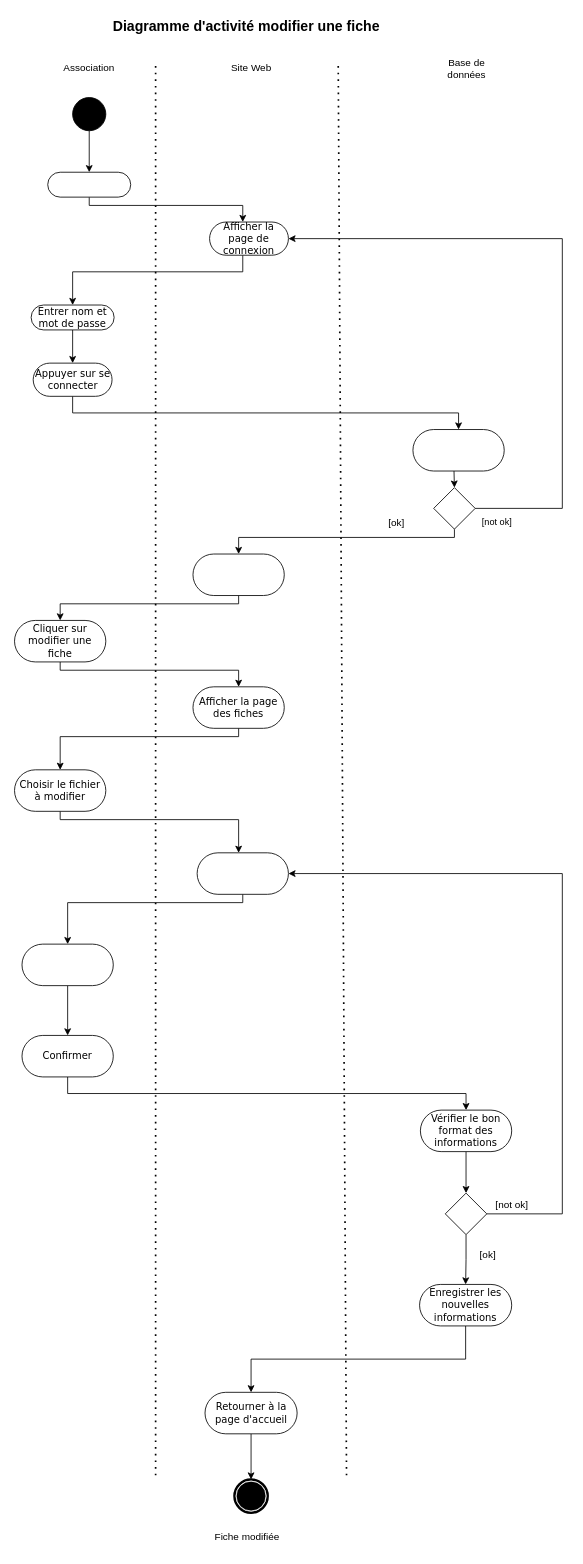
The diagram is 583 pixels wide and 1564 high, and some of its shapes have lost their labels. The centre of each missing label's shape, as x and y in pixels:
"Afficher la page d'accueil" belongs at (238,574).
"Afficher la page de modification" belongs at (242,873).
"Cliquer sur se connecter" belongs at (89,184).
"Modifier les informations voulues" belongs at (67,964).
"Vérifier que le nom et le mot de passe sont bon" belongs at (458,450).
